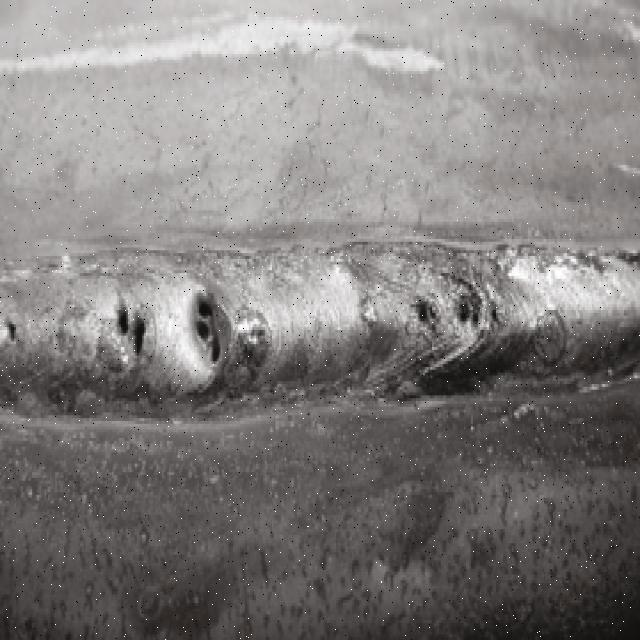Porosity: (187, 280, 237, 387), (109, 284, 154, 374), (452, 271, 506, 342), (407, 284, 442, 344), (0, 317, 24, 355)
